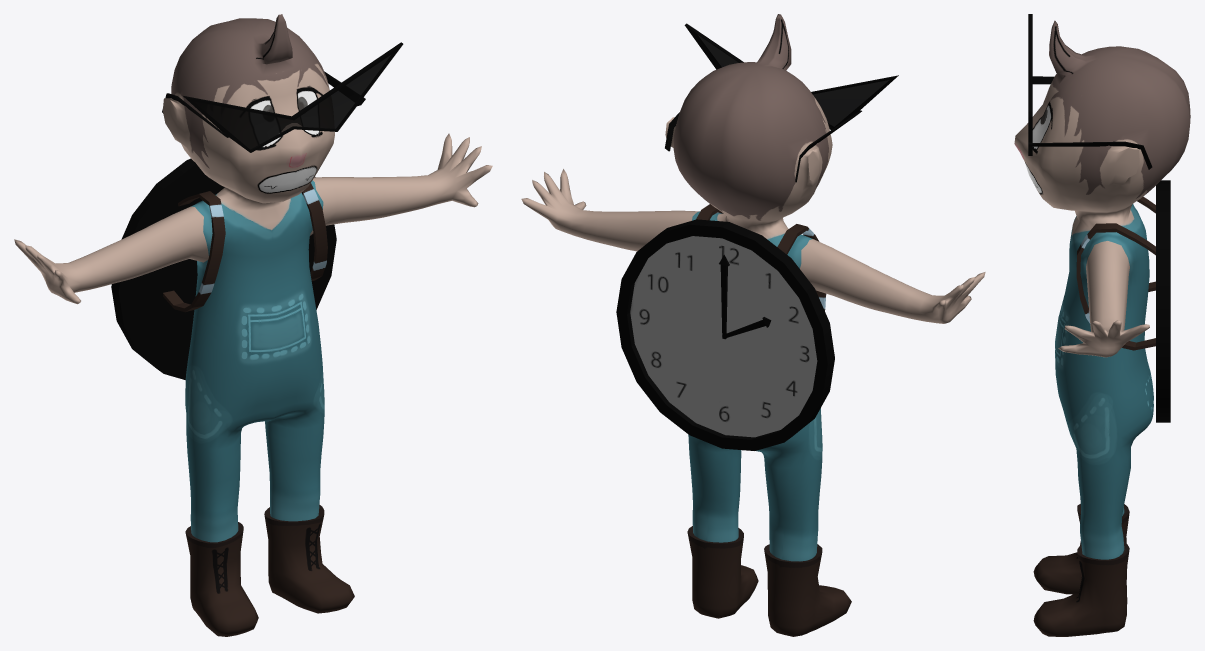
Rendered from ollie_SM.fbx.
The picture shows the model from 3 angles, left to right: view 1: azimuth 30°, elevation 25°; view 2: azimuth 150°, elevation 25°; view 3: azimuth 270°, elevation 25°; orthographic projection. The views are drawn at different scales.
Visible parts, largest first — view 1: Oliver; view 2: Oliver; view 3: Oliver.
Boxes of the visible parts, x1,y1,x2,y2 form: Oliver: (14,14,492,636); Oliver: (521,14,985,636); Oliver: (1014,14,1190,636).
Bounding box in the file's own units: 128 × 167 × 45.42.
Materials: 2 (2 with a texture image).
